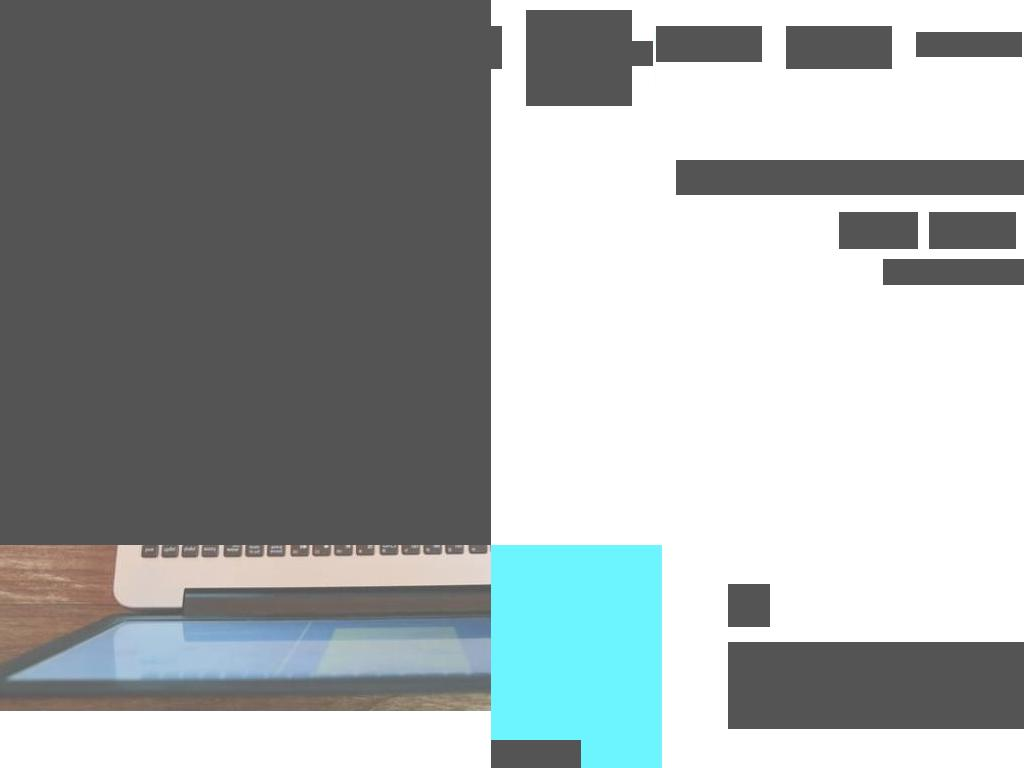button: (0, 410, 454, 448), (0, 362, 204, 411), (8, 0, 80, 30), (405, 0, 476, 30), (335, 0, 397, 30), (168, 0, 226, 30), (629, 41, 653, 66)
field: (0, 46, 486, 94), (676, 160, 1024, 195), (929, 212, 1016, 249), (839, 212, 918, 249)
heading: (0, 278, 454, 339), (0, 218, 454, 271)
image: (0, 0, 491, 545), (526, 10, 632, 106), (786, 26, 892, 69), (656, 26, 762, 62), (916, 32, 1022, 57), (728, 584, 770, 627), (491, 26, 502, 69), (632, 43, 650, 62)
text: (728, 642, 1024, 729), (883, 259, 1024, 285), (491, 740, 581, 768), (262, 1, 307, 23), (16, 3, 56, 21)
